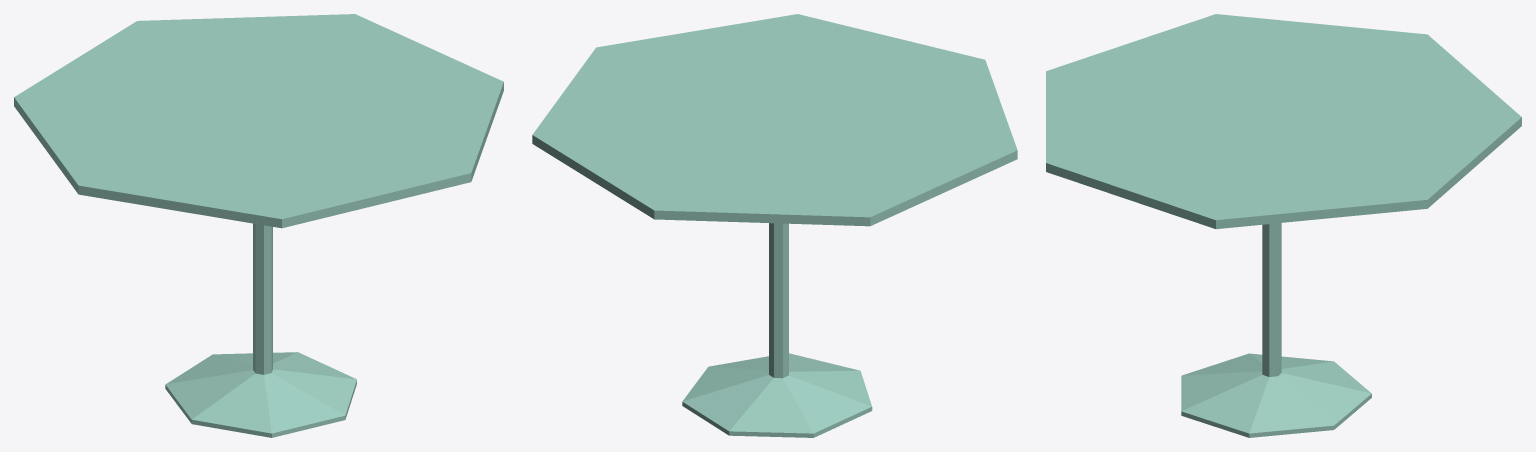
The model's file is cafetable.fbx.
3 renders of one model, left to right at view 1: azimuth 30°, elevation 25°; view 2: azimuth 150°, elevation 25°; view 3: azimuth 270°, elevation 25°, orthographic.
Visible parts, largest first — view 1: Cylinder; view 2: Cylinder; view 3: Cylinder.
Part boxes in pixels (x1,y1,x2,y2): Cylinder: (14,14,503,437); Cylinder: (532,14,1017,437); Cylinder: (1046,14,1521,437).
Size of the model in its own units: 1.2 by 0.7625 by 1.17.
